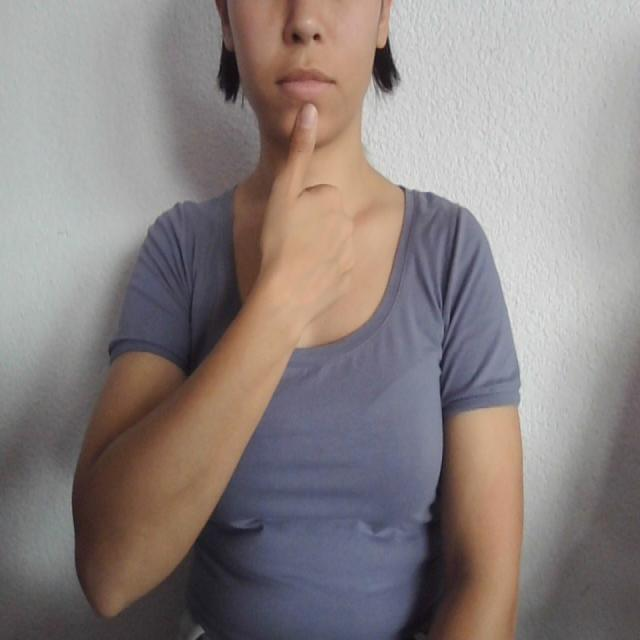Baba: (269, 59, 347, 189)
